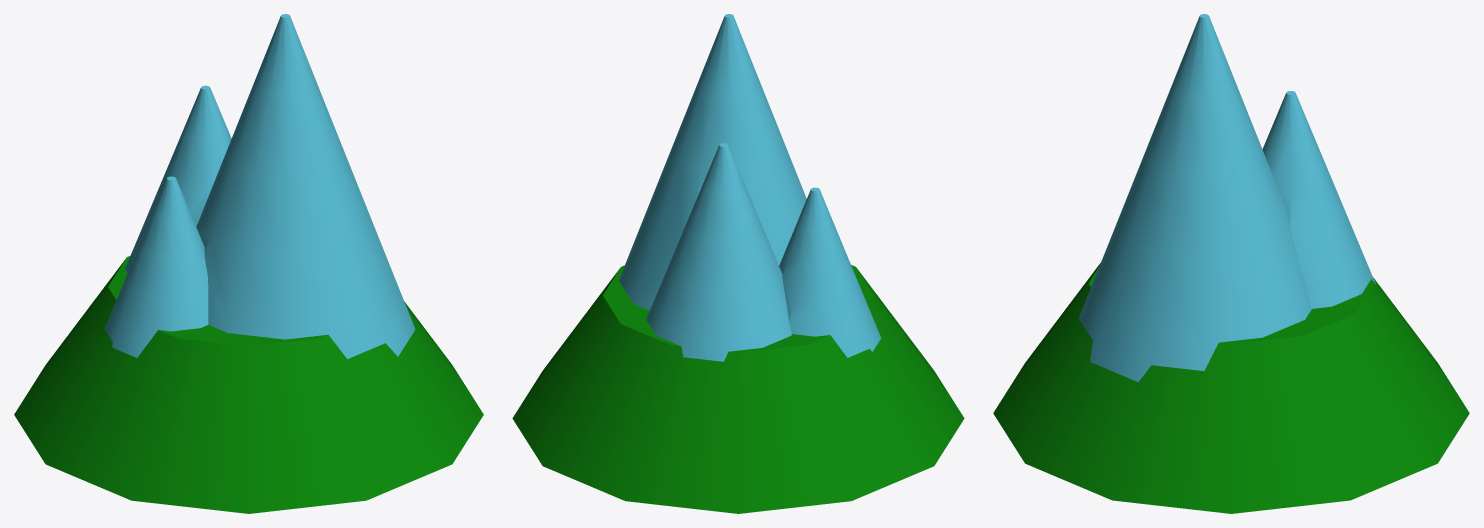
The model's file is mountain.obj.
3 renders of one model, left to right at view 1: azimuth 30°, elevation 25°; view 2: azimuth 150°, elevation 25°; view 3: azimuth 270°, elevation 25°, orthographic. The views are drawn at different scales.
Parts seen in each view (by area): view 1: Cone001, Cone003; view 2: Cone001, Cone003; view 3: Cone001, Cone003.
Part boxes in pixels (x1,y1,x2,y2): Cone001: (14,256,483,513); Cone003: (104,14,415,358); Cone001: (512,265,964,513); Cone003: (618,14,881,361); Cone001: (993,263,1469,513); Cone003: (1079,14,1375,382).
Bounding box in the file's own units: 100 × 94.61 × 100.
